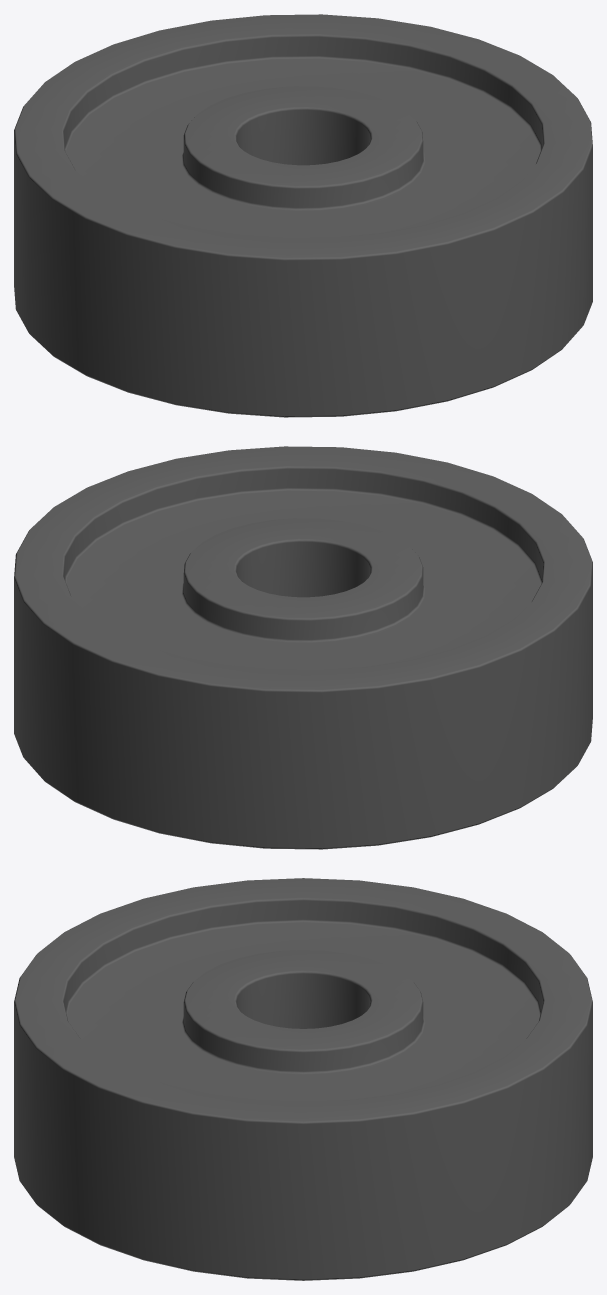
Rendered from Public_18_Weight_2.glb.
3 views of the same model, one above another, from view 1: azimuth 30°, elevation 25°; view 2: azimuth 150°, elevation 25°; view 3: azimuth 270°, elevation 25° (orthographic).
Parts seen in each view (by area): view 1: Public_18_Weight_2; view 2: Public_18_Weight_2; view 3: Public_18_Weight_2.
Boxes of the visible parts, bbox=[...] form: Public_18_Weight_2: bbox=[14, 14, 592, 417]; Public_18_Weight_2: bbox=[14, 446, 592, 849]; Public_18_Weight_2: bbox=[14, 878, 592, 1280].
Bounding box in the file's own units: 1.32 × 0.4021 × 1.32.
1 material, 1 textured.
